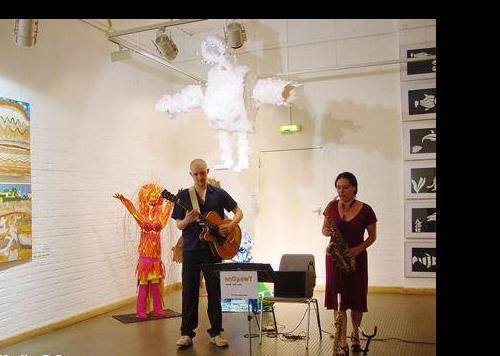Otro Obstaculo: (110, 183, 174, 331)
